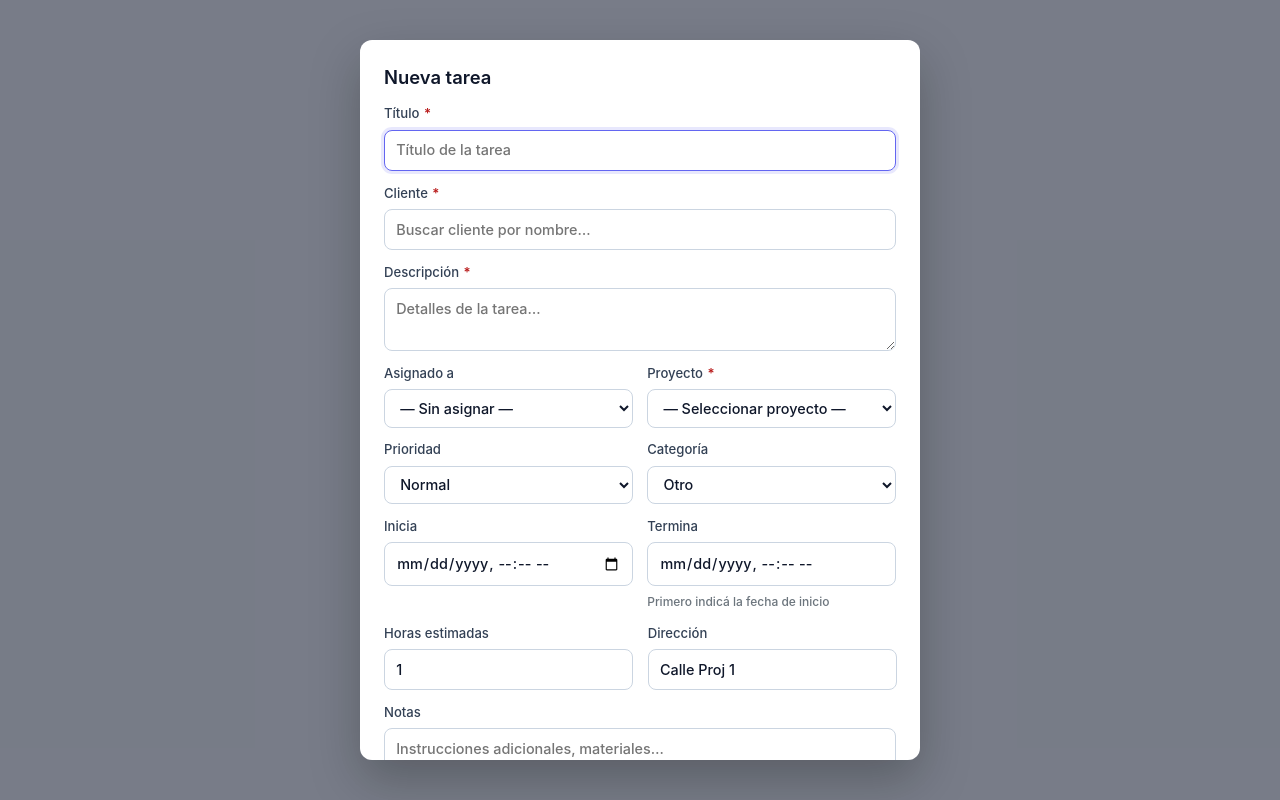
Test: CreateTaskModal › keeps Crear tarea disabled until a project is selected
Type "Tarea con todo menos proyecto" into the field with placeholder "Título de la tarea" at x=640, y=150, box [384,130,896,171]
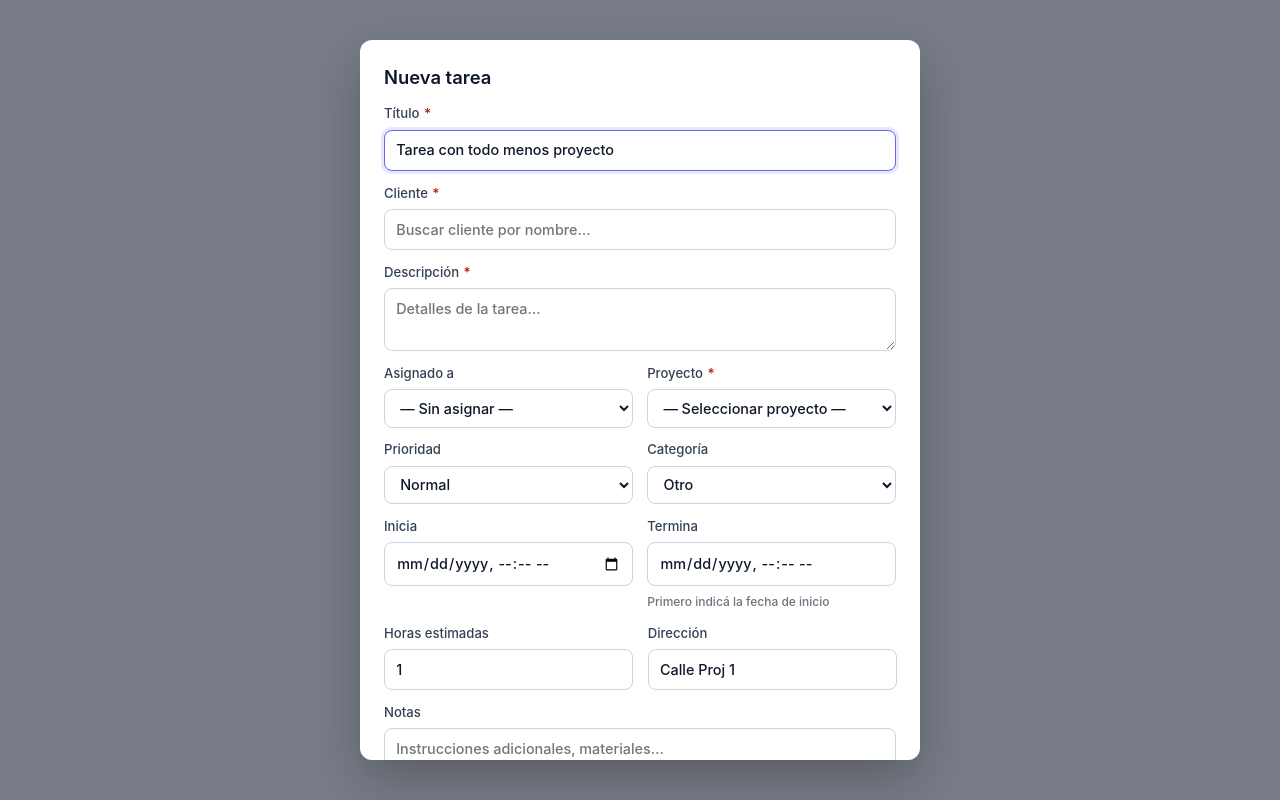
Type "Proj" into the field with placeholder "Buscar cliente por nombre…" at x=640, y=230, box [384,209,896,250]
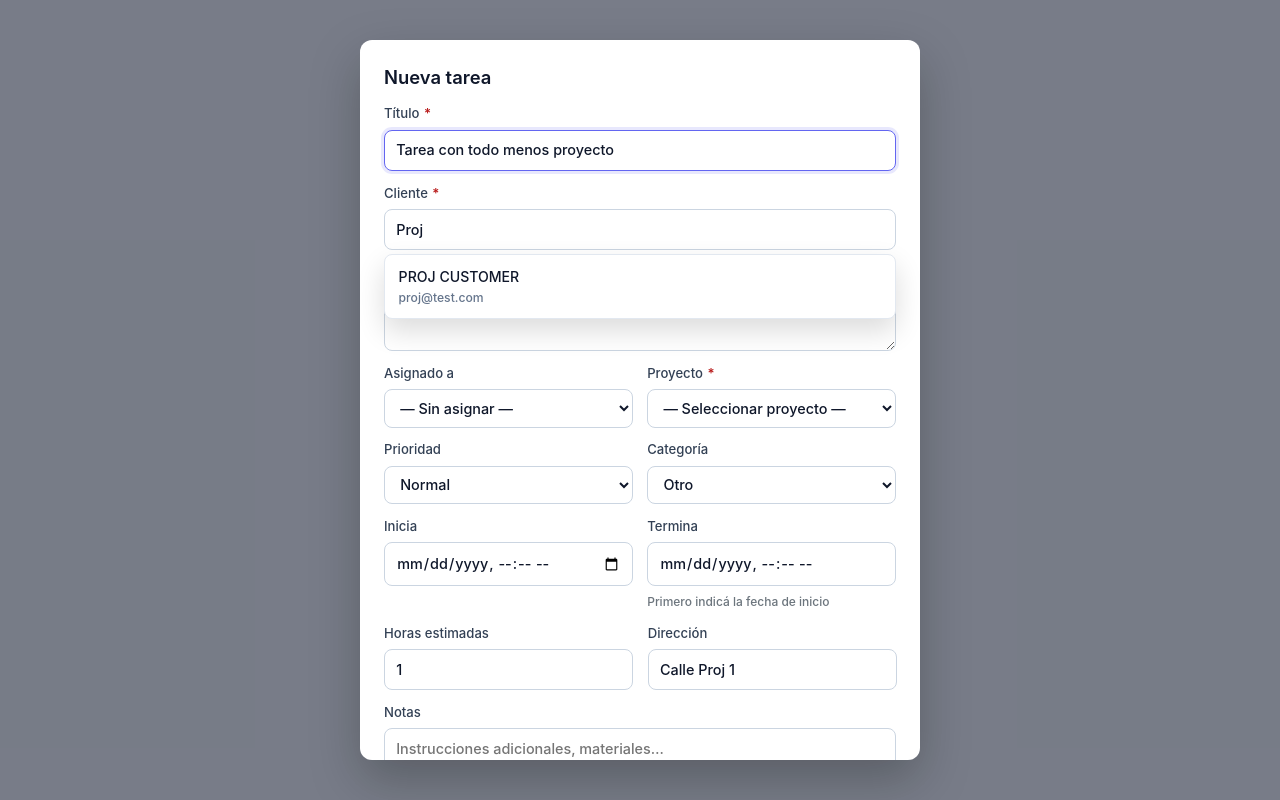
Click the text "PROJ CUSTOMER" at x=459, y=277, box [399,266,519,287]
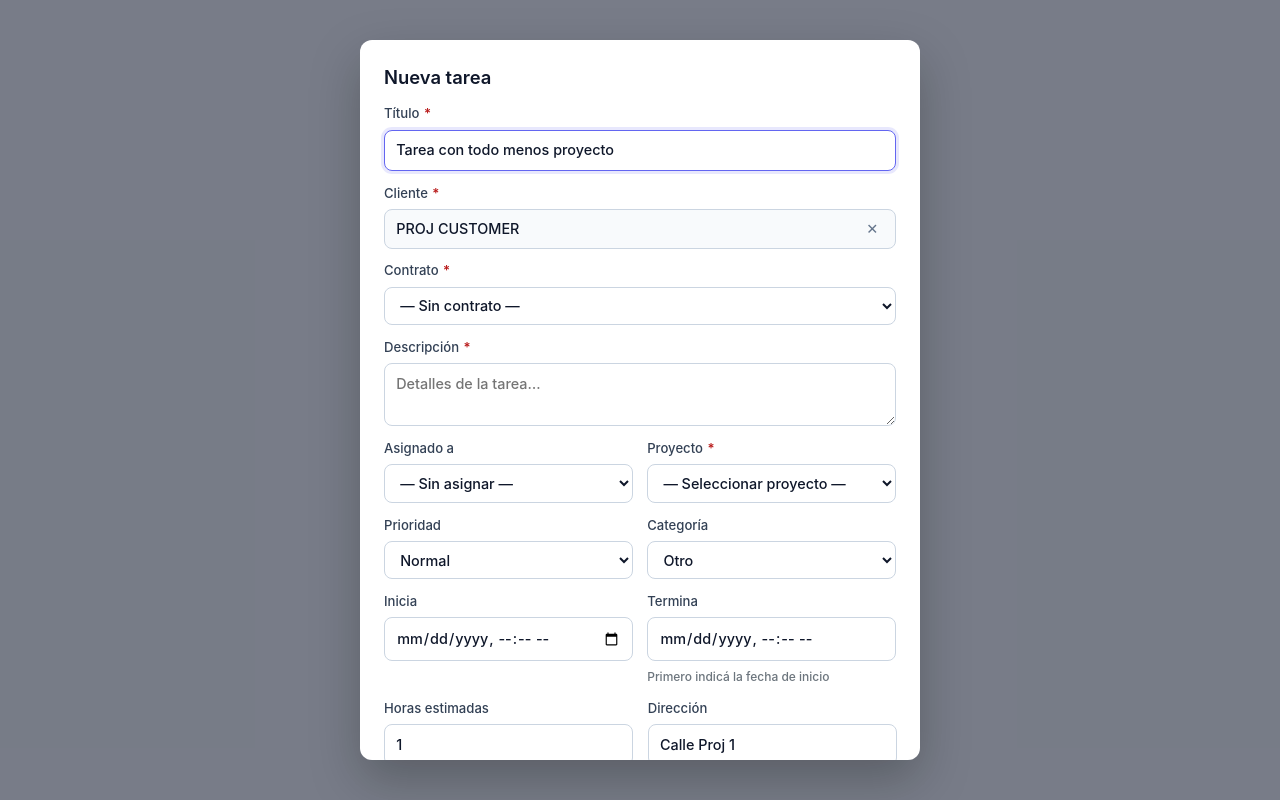
Select "Plan 100Mbps" in the dropdown labelled "Contrato *" at x=640, y=306, box [384,287,896,325]
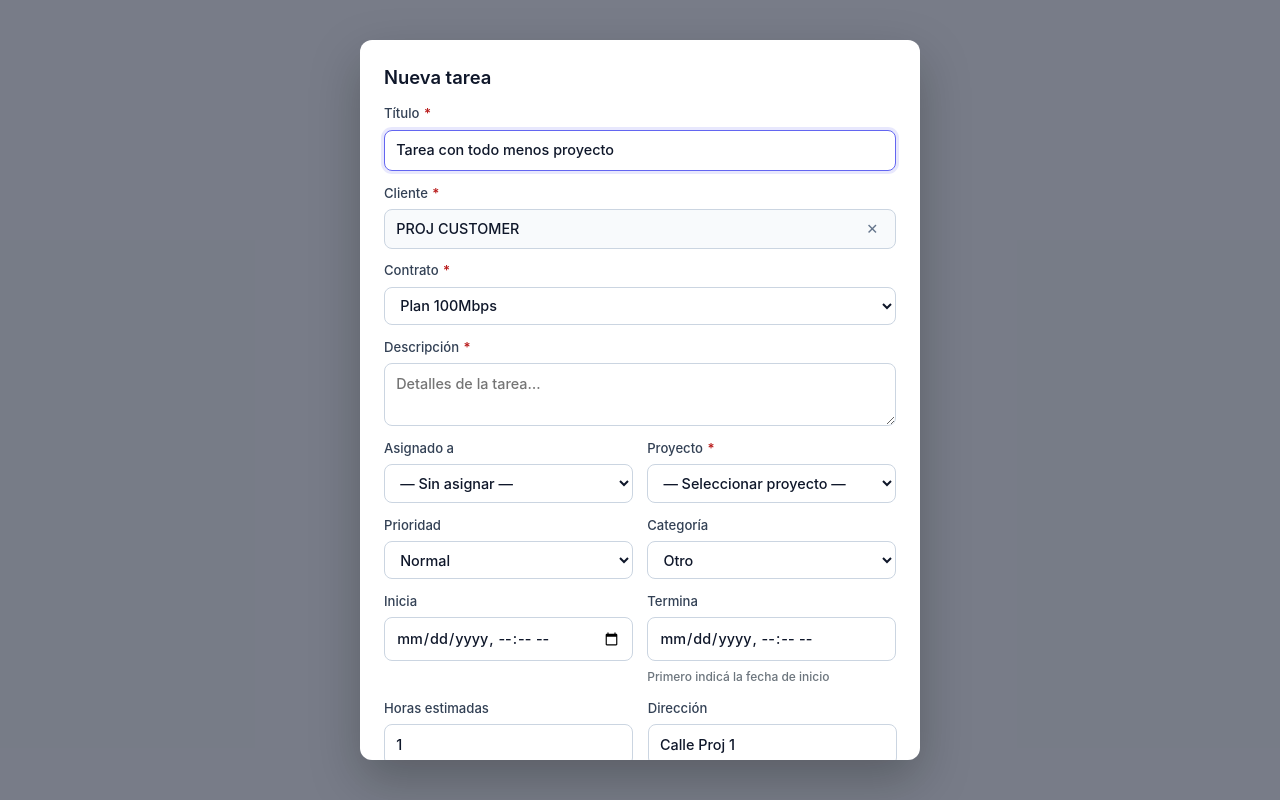
Type "descripción de prueba" into the text box with placeholder "Detalles de la tarea…" at x=640, y=395, box [384,363,896,426]
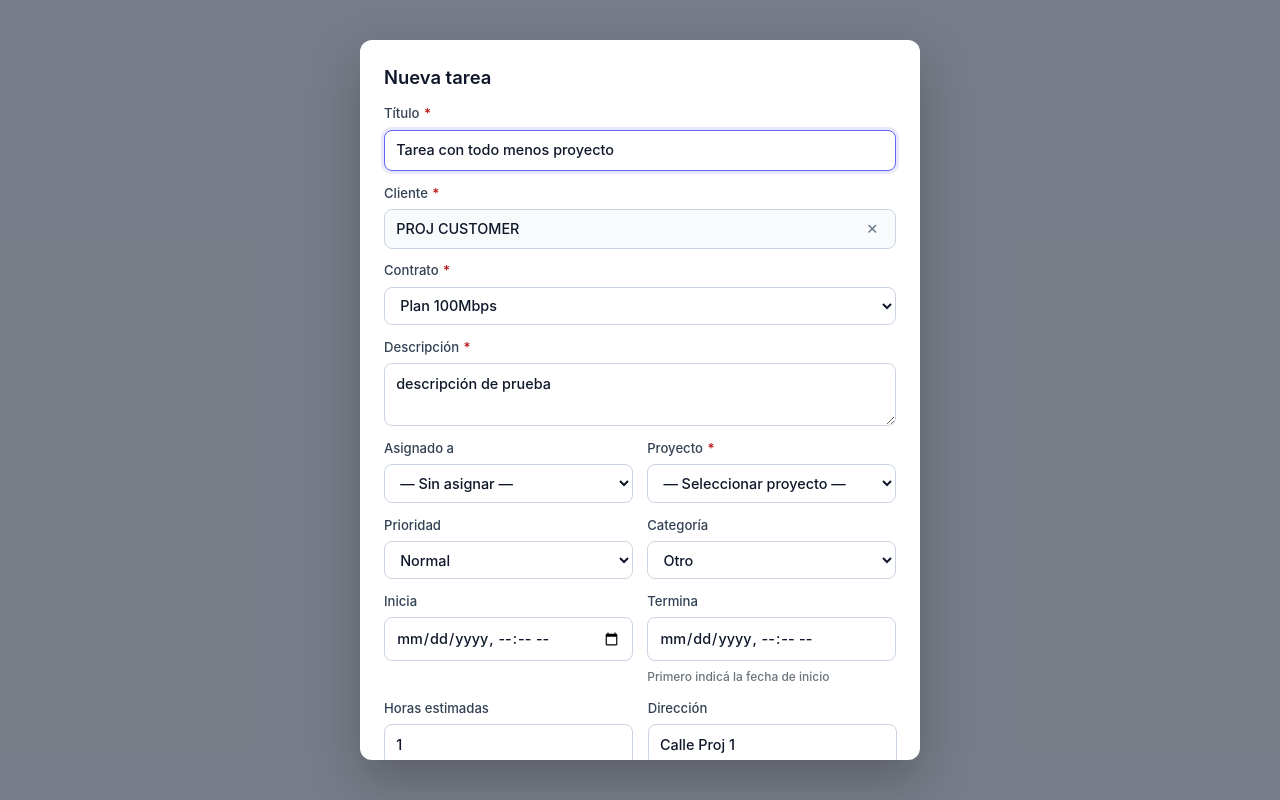
// Pick the project → enabled
Select "Instalaciones" in the dropdown labelled "Proyecto *" at x=772, y=483, box [647,464,896,503]
(page scrolled)
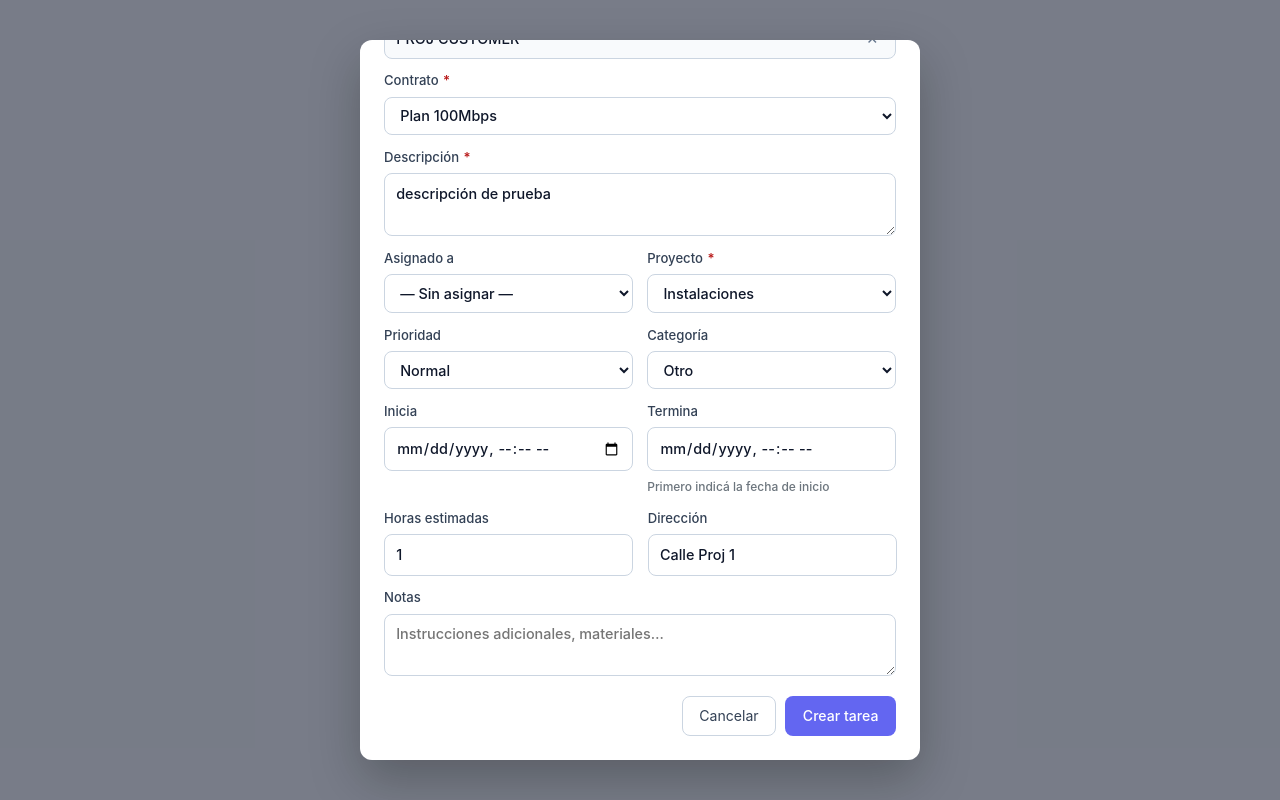
Result: the button "Crear tarea" is enabled at [785,696,896,736]
